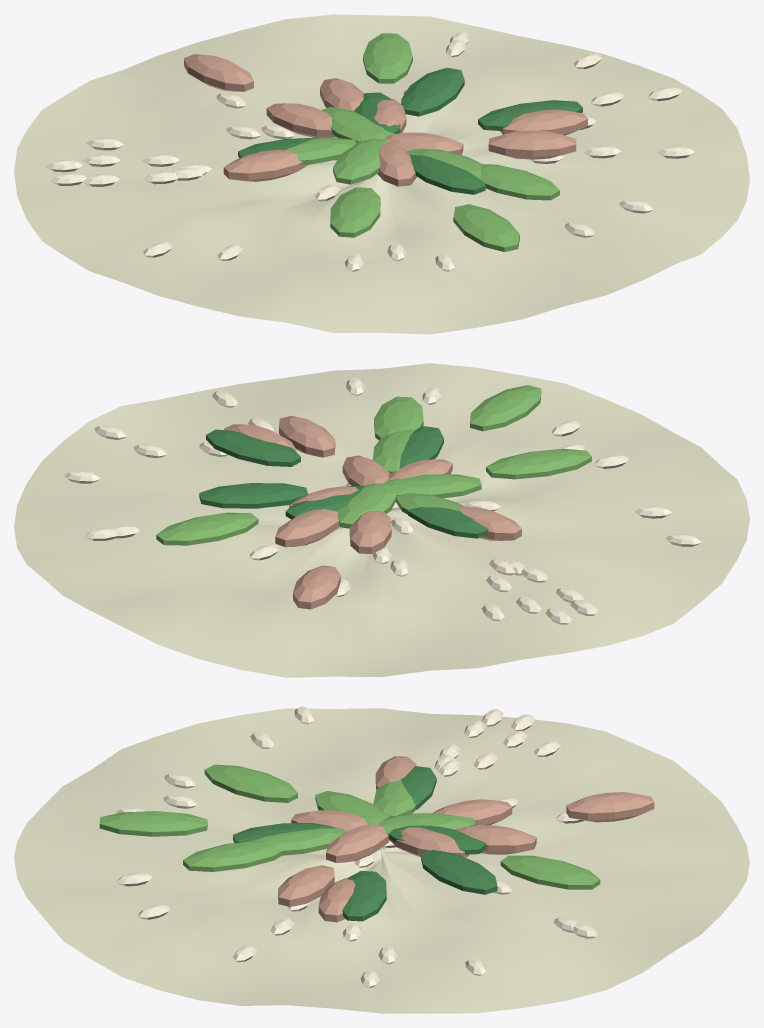
Rendered from FOOD_Congee_R04.glb.
3 views of the same model, one above another, from view 1: azimuth 30°, elevation 25°; view 2: azimuth 150°, elevation 25°; view 3: azimuth 270°, elevation 25° (orthographic).
Parts seen in each view (by area): view 1: Thick_Porridge_Surface.001, Green_Leaf_5, Lean_Pork_7, Green_Leaf_7, Green_Leaf_8, Green_Leaf_6, Green_Leaf_2, Lean_Pork_9, Lean_Pork_8, Green_Leaf_13, Lean_Pork_3, Green_Leaf_9 (+11 smaller); view 2: Thick_Porridge_Surface.001, Green_Leaf_8, Green_Leaf_6, Green_Leaf_7, Green_Leaf_5, Green_Leaf_10, Green_Leaf_9, Lean_Pork_1, Lean_Pork_7, Lean_Pork_8, Green_Leaf_1, Green_Leaf_2 (+10 smaller); view 3: Thick_Porridge_Surface.001, Green_Leaf_5, Green_Leaf_6, Green_Leaf_8, Green_Leaf_7, Green_Leaf_2, Lean_Pork_8, Lean_Pork_2, Green_Leaf_10, Lean_Pork_7, Lean_Pork_1, Green_Leaf_3 (+11 smaller).
Boxes of the visible parts, <box> form: Thick_Porridge_Surface.001: <box>14,14,749,334</box>; Green_Leaf_5: <box>453,204,519,251</box>; Lean_Pork_7: <box>488,130,576,159</box>; Green_Leaf_7: <box>401,67,464,116</box>; Green_Leaf_8: <box>330,187,380,237</box>; Green_Leaf_6: <box>363,33,412,83</box>; Green_Leaf_2: <box>481,164,559,200</box>; Lean_Pork_9: <box>223,150,308,181</box>; Lean_Pork_8: <box>184,54,253,91</box>; Green_Leaf_13: <box>409,154,485,194</box>; Lean_Pork_3: <box>266,103,336,137</box>; Green_Leaf_9: <box>333,138,389,184</box>; Thick_Porridge_Surface.001: <box>14,363,749,677</box>; Green_Leaf_8: <box>486,448,591,479</box>; Green_Leaf_6: <box>156,512,258,545</box>; Green_Leaf_7: <box>199,483,307,508</box>; Green_Leaf_5: <box>470,385,541,431</box>; Green_Leaf_10: <box>206,429,300,466</box>; Green_Leaf_9: <box>384,474,481,498</box>; Lean_Pork_1: <box>275,509,339,547</box>; Lean_Pork_7: <box>279,416,335,457</box>; Lean_Pork_8: <box>293,565,340,609</box>; Green_Leaf_1: <box>407,507,488,538</box>; Green_Leaf_2: <box>374,396,423,440</box>; Thick_Porridge_Surface.001: <box>14,708,749,1013</box>; Green_Leaf_5: <box>99,811,207,836</box>; Green_Leaf_6: <box>500,855,600,889</box>; Green_Leaf_8: <box>204,764,297,802</box>; Green_Leaf_7: <box>421,850,497,894</box>; Green_Leaf_2: <box>183,841,281,871</box>; Lean_Pork_8: <box>566,792,654,822</box>; Lean_Pork_2: <box>326,824,389,862</box>; Green_Leaf_10: <box>342,871,386,921</box>; Lean_Pork_7: <box>278,865,334,906</box>; Lean_Pork_1: <box>455,825,536,854</box>; Green_Leaf_3: <box>250,828,346,855</box>.
Bounding box in the file's own units: 0.532 × 0.0384 × 0.532.
